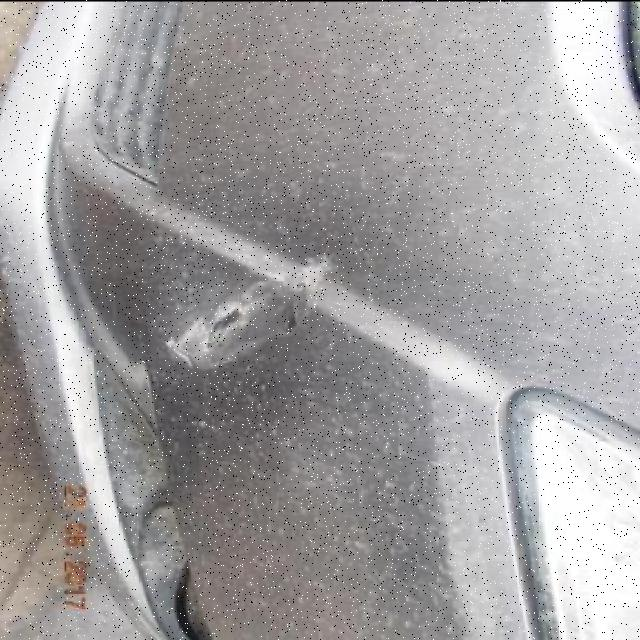damage: (159, 257, 340, 377)
